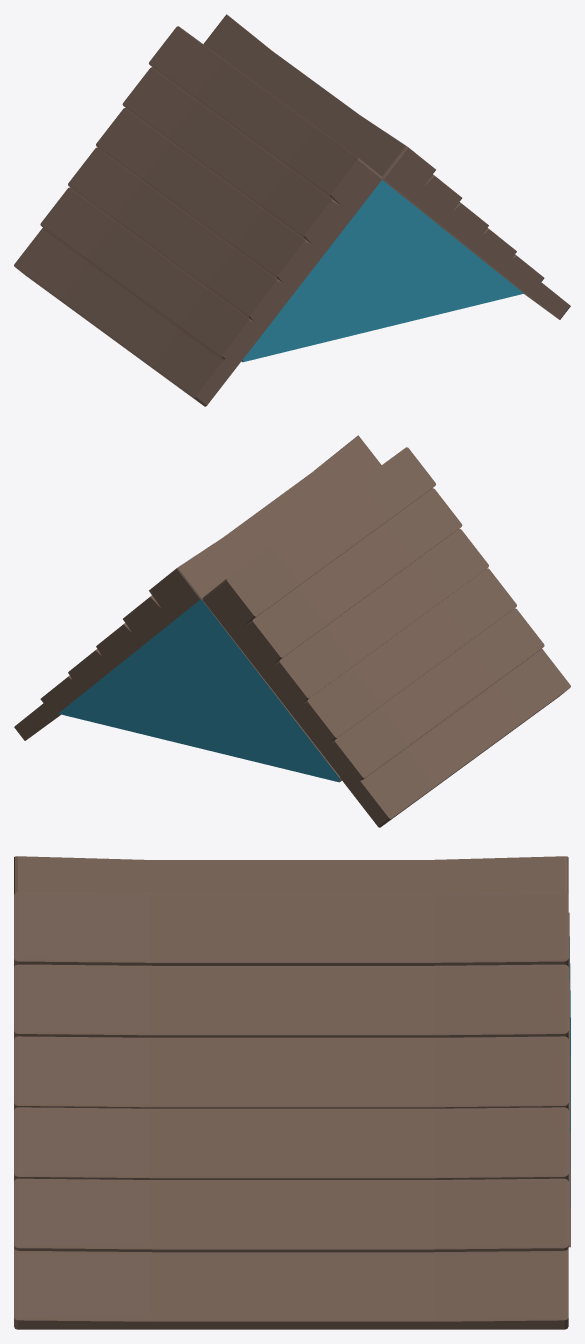
File: Ceiling.fbx
The picture shows the model from 3 angles, top to bottom: view 1: azimuth 30°, elevation 25°; view 2: azimuth 150°, elevation 25°; view 3: azimuth 270°, elevation 25°; orthographic projection. The views are drawn at different scales.
Visible parts, largest first — view 1: CeilingDefaultSize; view 2: CeilingDefaultSize; view 3: CeilingDefaultSize.
Part boxes in pixels (x1,y1,x2,y2): CeilingDefaultSize: (14,14,570,406); CeilingDefaultSize: (14,435,570,827); CeilingDefaultSize: (14,856,570,1329).
Size of the model in its own units: 2397 by 1286 by 2009.
